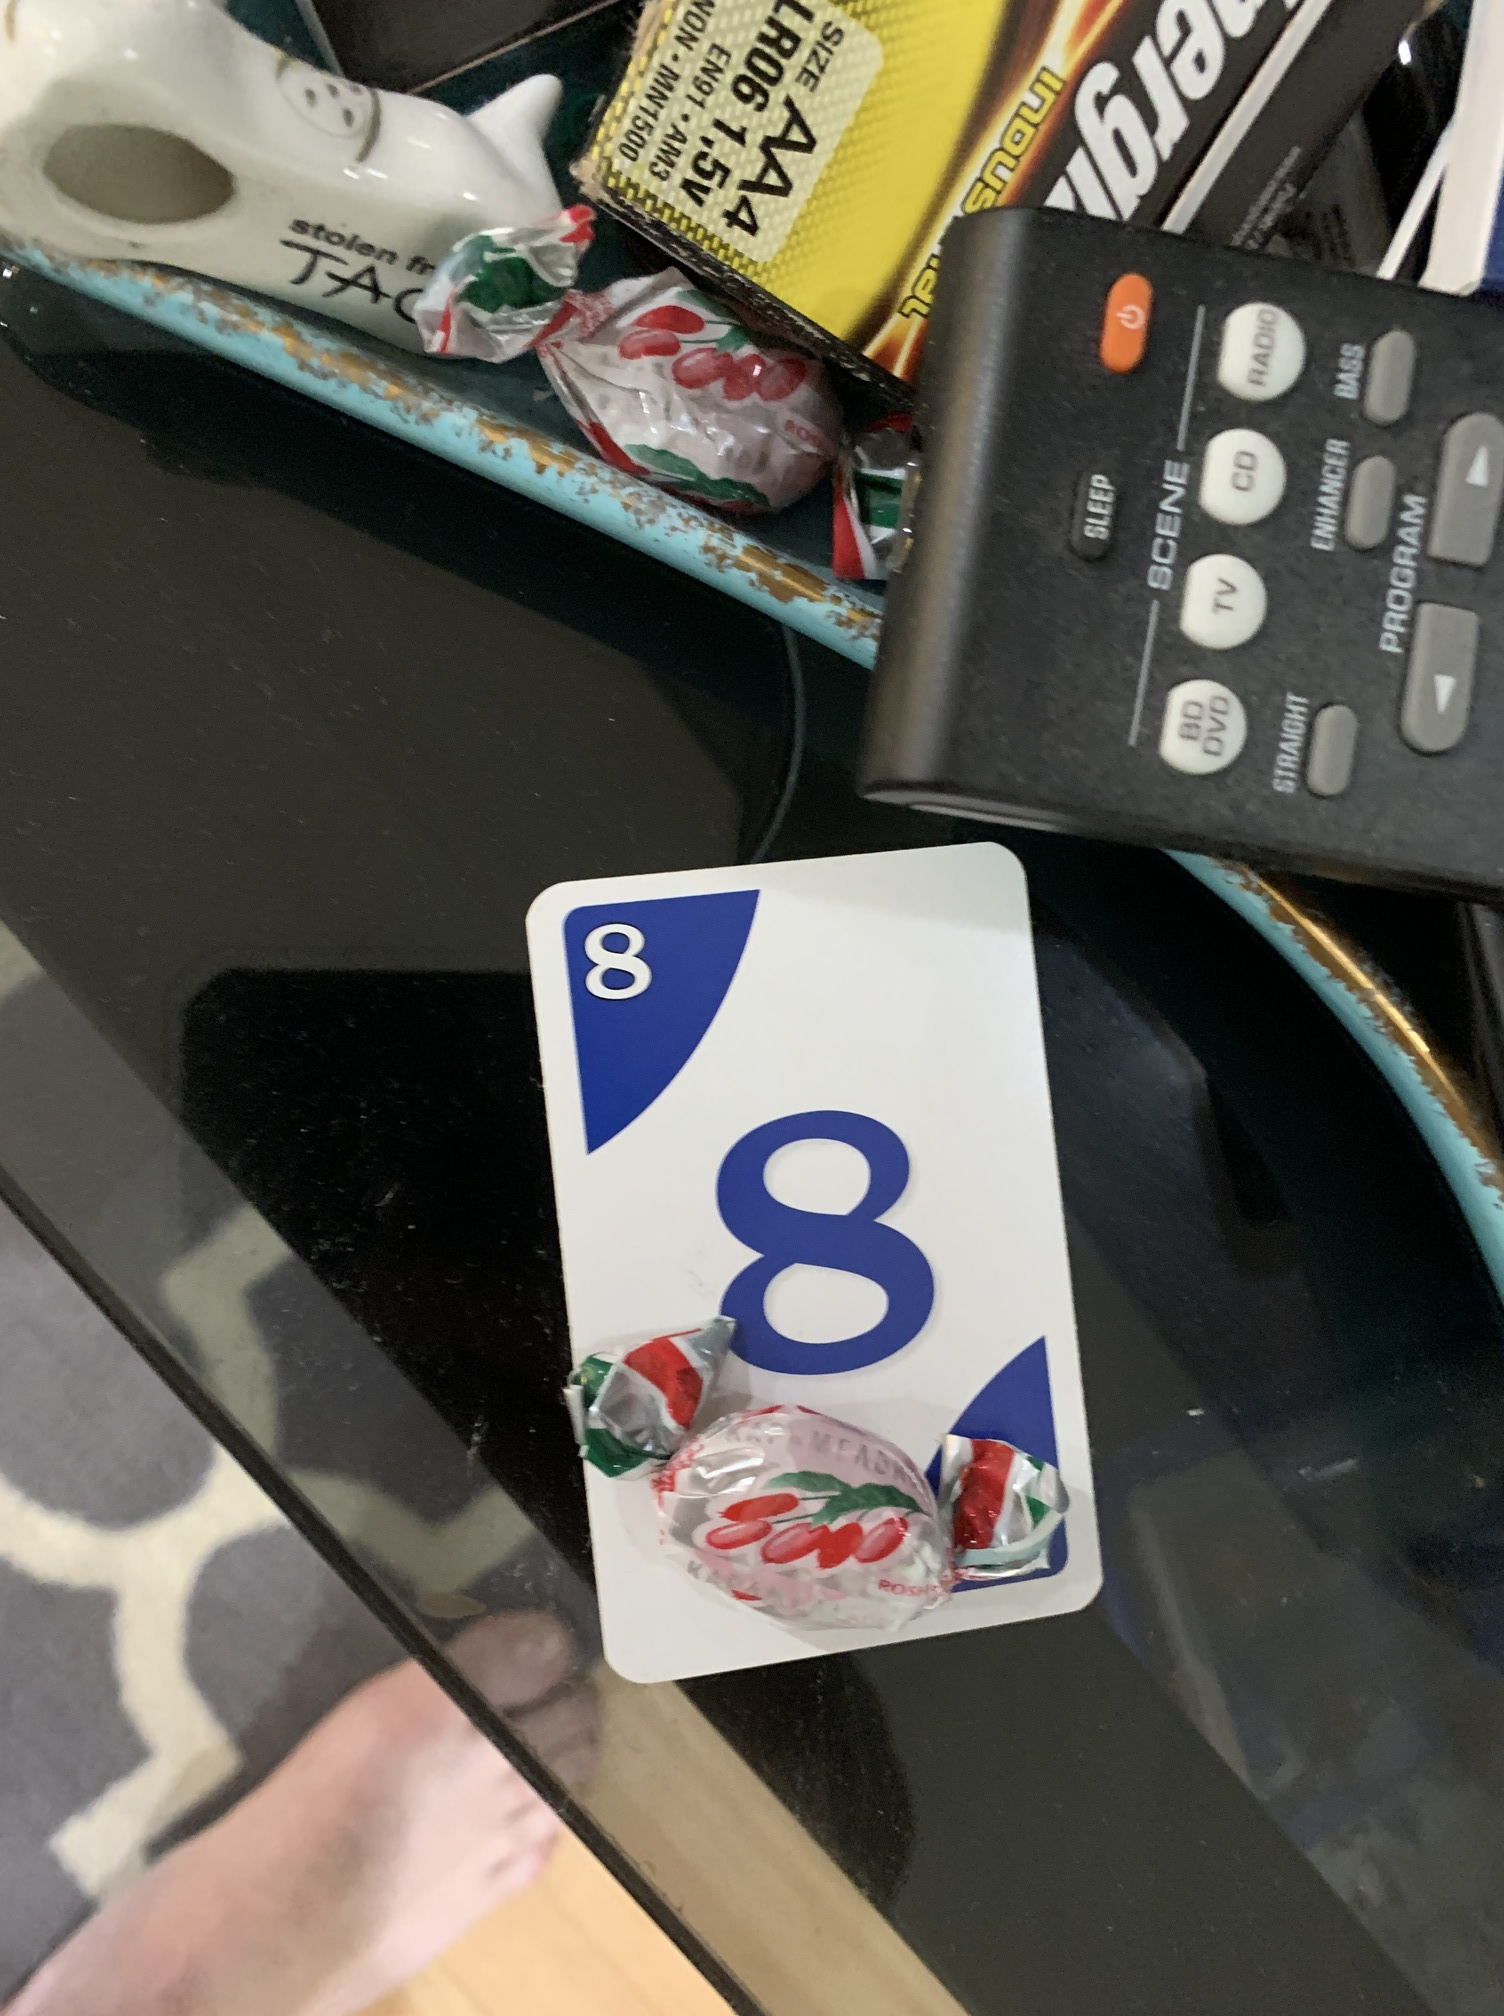eight: (509, 833, 1115, 1695)
